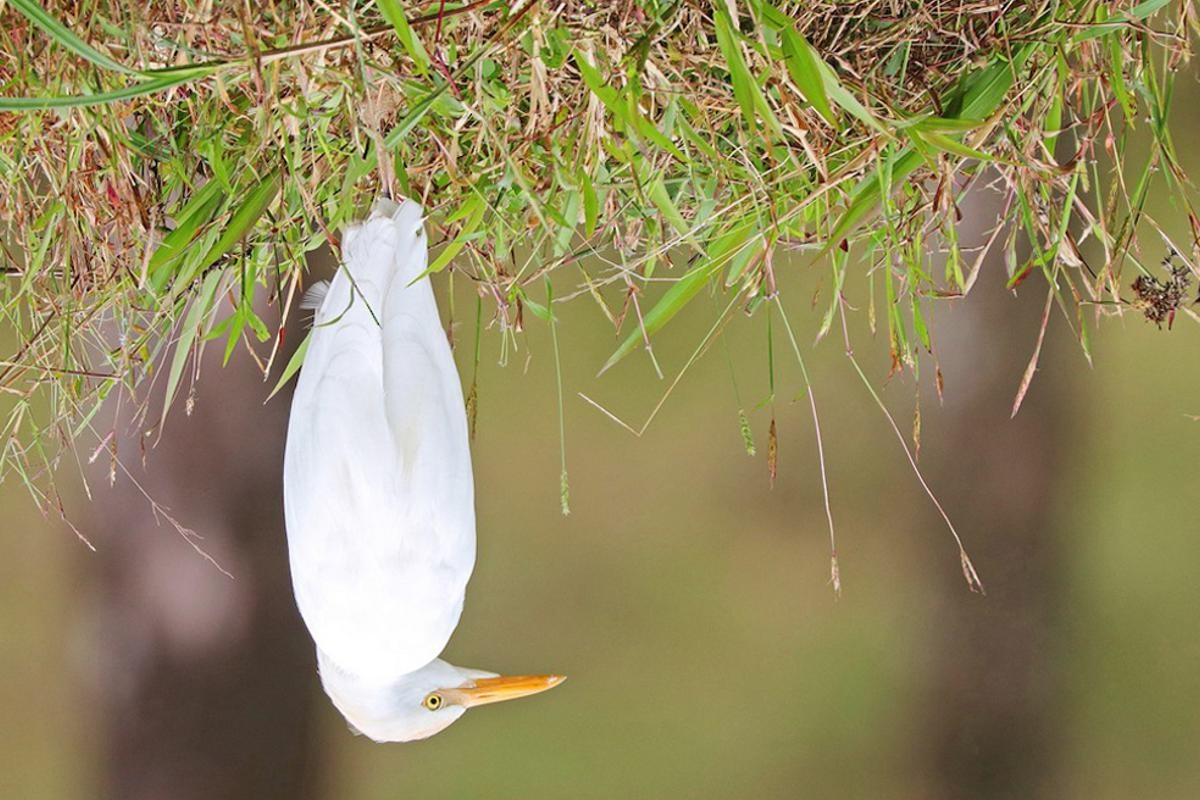egret: (248, 137, 582, 750)
